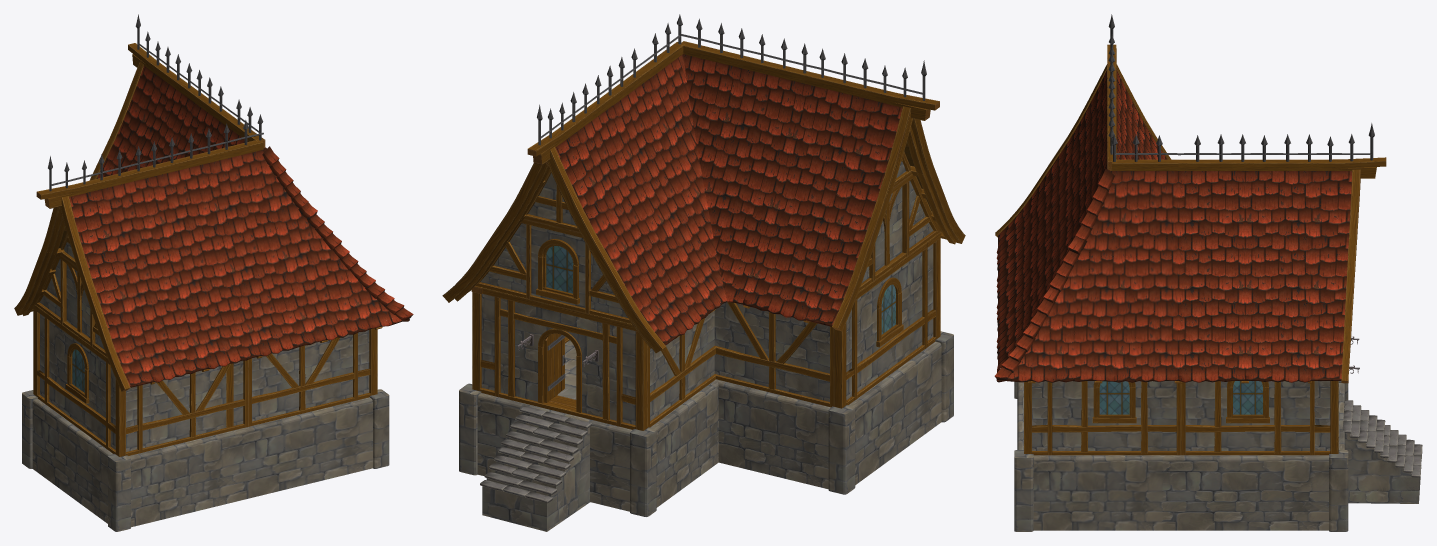
File: fullhouse_oldchurch.gltf
The picture shows the model from 3 angles, left to right: view 1: azimuth 30°, elevation 25°; view 2: azimuth 150°, elevation 25°; view 3: azimuth 270°, elevation 25°; orthographic projection. The views are drawn at different scales.
Visible parts, largest first — view 1: SM_House_Roof_01_Corner_Outer_Extended, SM_House_Foundation_5x4_Corner_Extended (×2), SM_House_Wall_5x4_A_01 (×2), SM_House_Roof_01_Tiling_Half_Base (×2), SM_House_Roof_01_Tiling_Half_TopExtended (×3), SM_House_Foundation_5x4, SM_House_Roof_01_End_TopExtended (×2), SM_House_Wall_5x4_Window_C_02, SM_House_Roof_01_End_Base (×2), SM_House_Roof_Beam_Half_Tiling (×6), SM_House_Corner_02 (×2), SM_House_Roof_Beam_End (×2) (+8 smaller); view 2: SM_House_Roof_01_Corner_Inner_Extended, SM_House_Foundation_5x4_Corner_Extended (×3), SM_House_Roof_01_Tiling_Half_Base (×2), SM_House_Wall_5x4_A_01 (×2), SM_House_Foundation_5x4_Corner, SM_House_Wall_5x4_Door_D_01, SM_House_Roof_01_Tiling_Half_TopExtended (×2), SM_House_Roof_01_End_Base_Mirrored (×2), SM_House_Wall_5x4_Window_C_02, SM_House_Roof_Beam_Half_Tiling (×6), SM_House_Roof_01_End_Base (×2), SM_Stairs_Exterior_Bricks_02 (+15 smaller); view 3: SM_House_Roof_01_Corner_Outer_Extended, SM_House_Roof_01_Tiling_Half_Base (×4), SM_House_Wall_5x4_Window_C_01 (×2), SM_House_Foundation_5x4_Corner_Extended (×3), SM_House_Roof_01_Tiling_Half_TopExtended (×5), SM_House_Foundation_5x4, SM_House_Roof_01_End_Base_Mirrored, SM_House_Roof_01_End_TopExtended_Mirrored (×2), SM_House_Roof_Beam_Half_Tiling (×3), SM_House_Corner_02 (×2), SM_Stairs_Exterior_Bricks_03, SM_Stairs_Exterior_Bricks_02 (+5 smaller).
Part boxes in pixels (box(x1,y1,x2,y2)): SM_House_Roof_01_Corner_Outer_Extended: box(209, 146, 413, 358); SM_House_Foundation_5x4_Corner_Extended (×2): box(32, 389, 389, 531); SM_House_Wall_5x4_A_01 (×2): box(137, 333, 357, 453); SM_House_Roof_01_Tiling_Half_Base (×2): box(119, 242, 260, 384); SM_House_Roof_01_Tiling_Half_TopExtended (×3): box(102, 80, 226, 267); SM_House_Foundation_5x4: box(129, 431, 234, 527); SM_House_Roof_01_End_TopExtended (×2): box(60, 61, 162, 278); SM_House_Wall_5x4_Window_C_02: box(44, 312, 110, 449); SM_House_Roof_01_End_Base (×2): box(81, 137, 153, 391); SM_House_Roof_Beam_Half_Tiling (×6): box(97, 47, 265, 188); SM_House_Corner_02 (×2): box(108, 328, 377, 456); SM_House_Roof_Beam_End (×2): box(36, 14, 169, 208); SM_House_Roof_01_Corner_Inner_Extended: box(613, 54, 804, 310); SM_House_Foundation_5x4_Corner_Extended (×3): box(459, 331, 953, 516); SM_House_Roof_01_Tiling_Half_Base (×2): box(612, 174, 844, 339); SM_House_Wall_5x4_A_01 (×2): box(647, 302, 833, 427); SM_House_Foundation_5x4_Corner: box(718, 380, 855, 494); SM_House_Wall_5x4_Door_D_01: box(494, 291, 622, 426); SM_House_Roof_01_Tiling_Half_TopExtended (×2): box(577, 84, 864, 215); SM_House_Roof_01_End_Base_Mirrored (×2): box(442, 189, 888, 331); SM_House_Wall_5x4_Window_C_02: box(852, 242, 927, 400); SM_House_Roof_Beam_Half_Tiling (×6): box(568, 14, 869, 131); SM_House_Roof_01_End_Base (×2): box(582, 165, 965, 353); SM_Stairs_Exterior_Bricks_02: box(480, 446, 570, 531); SM_House_Roof_01_Corner_Outer_Extended: box(994, 141, 1178, 383); SM_House_Roof_01_Tiling_Half_Base (×4): box(996, 155, 1311, 383); SM_House_Wall_5x4_Window_C_01 (×2): box(1047, 381, 1314, 455); SM_House_Foundation_5x4_Corner_Extended (×3): box(1014, 381, 1348, 531); SM_House_Roof_01_Tiling_Half_TopExtended (×5): box(1069, 86, 1311, 256); SM_House_Foundation_5x4: box(1033, 455, 1162, 530); SM_House_Roof_01_End_Base_Mirrored: box(1312, 256, 1355, 383); SM_House_Roof_01_End_TopExtended_Mirrored (×2): box(1116, 64, 1360, 256); SM_House_Roof_Beam_Half_Tiling (×3): box(1111, 134, 1312, 170); SM_House_Corner_02 (×2): box(1024, 381, 1338, 455); SM_Stairs_Exterior_Bricks_03: box(1342, 400, 1385, 503); SM_Stairs_Exterior_Bricks_02: box(1380, 425, 1422, 503).
Size of what is drawn, in the model's own units: 14.59 by 15.18 by 16.05.
17 materials, 17 textured.
